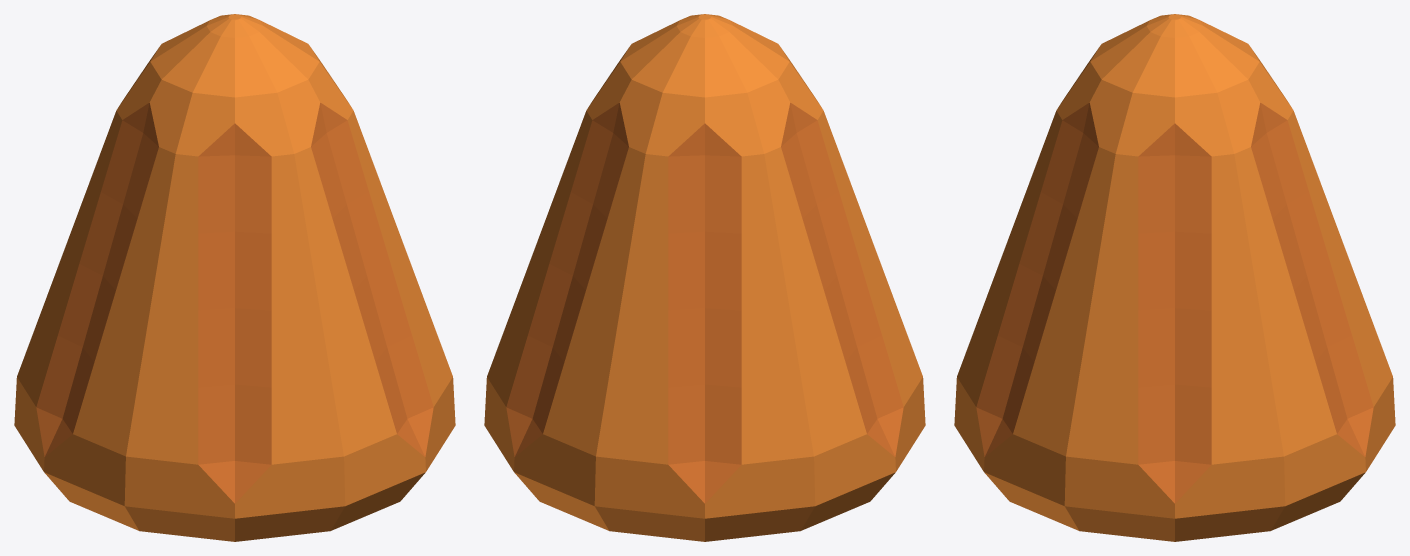
Rendered from WF_LP_HT_Props_Candy.004.fbx.
3 renders of one model, left to right at view 1: azimuth 30°, elevation 25°; view 2: azimuth 150°, elevation 25°; view 3: azimuth 270°, elevation 25°, orthographic.
Visible parts, largest first — view 1: WF_LP_HT_Props_Candy.004; view 2: WF_LP_HT_Props_Candy.004; view 3: WF_LP_HT_Props_Candy.004.
Part boxes in pixels (x1,y1,x2,y2): WF_LP_HT_Props_Candy.004: (14, 14, 455, 541); WF_LP_HT_Props_Candy.004: (484, 14, 925, 541); WF_LP_HT_Props_Candy.004: (954, 14, 1395, 541).
Bounding box in the file's own units: 0.0751 × 0.0886 × 0.0751.
